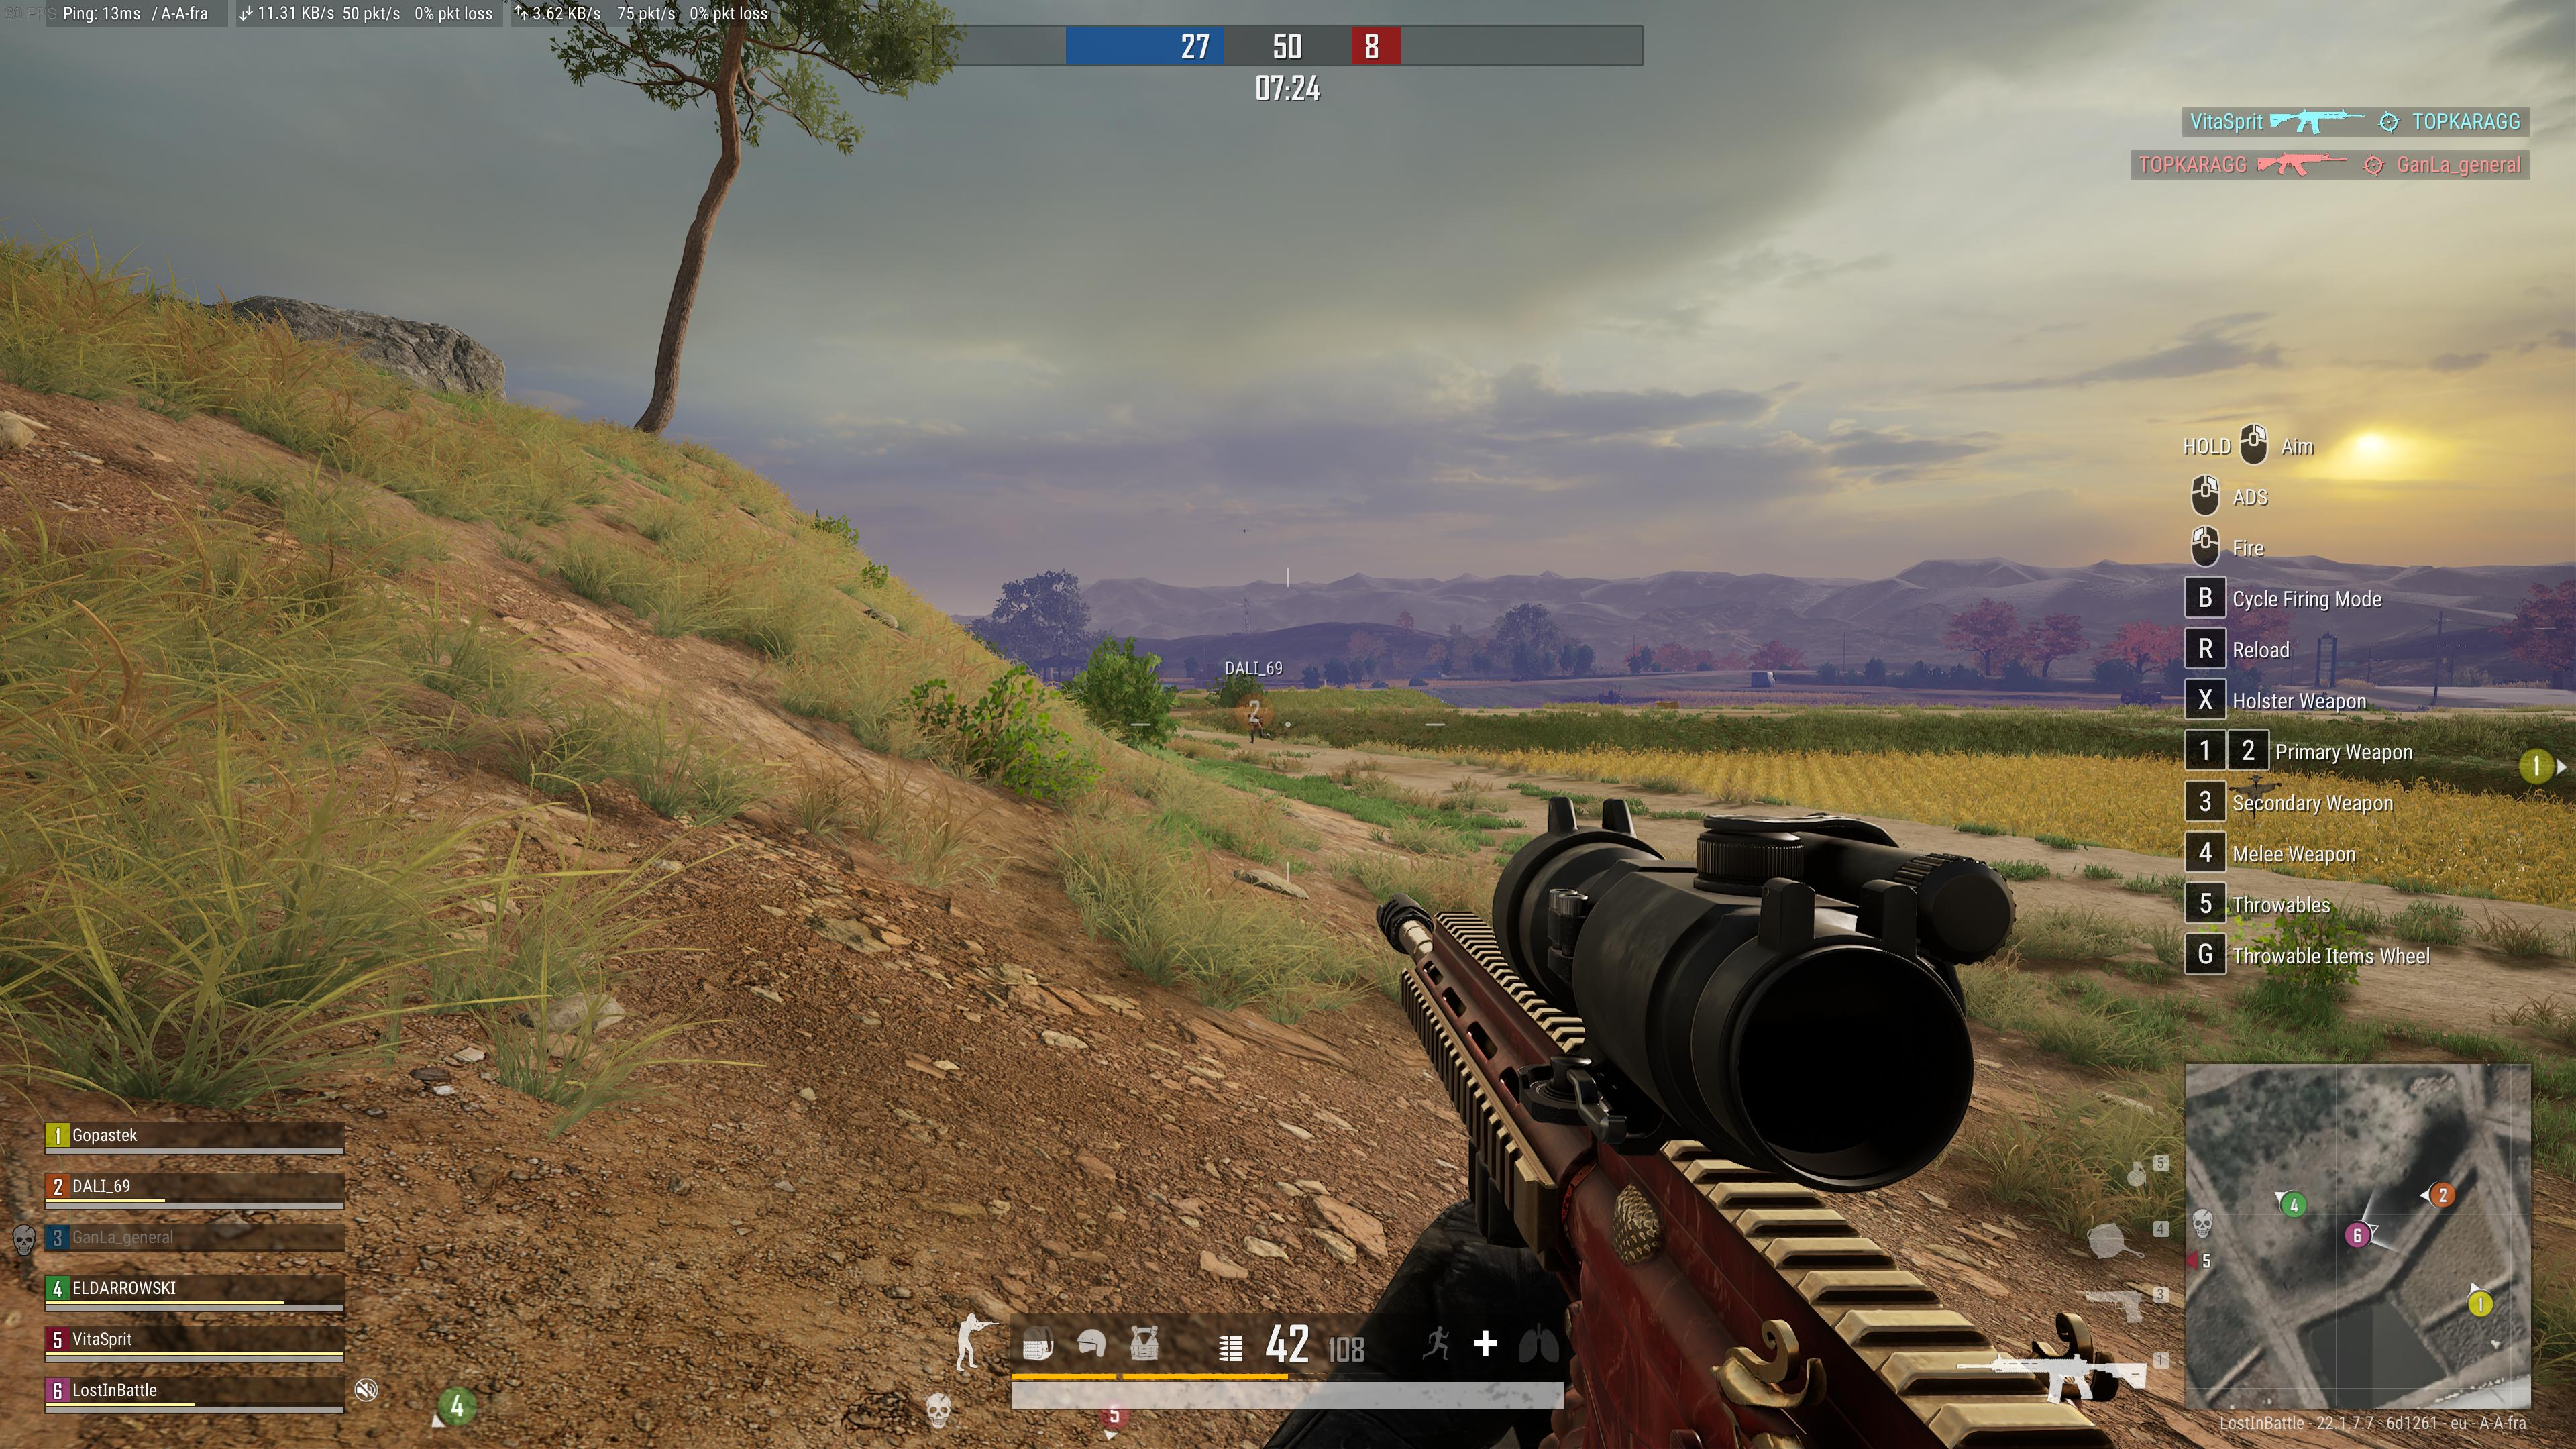friendly: (1244, 711, 1272, 743)
